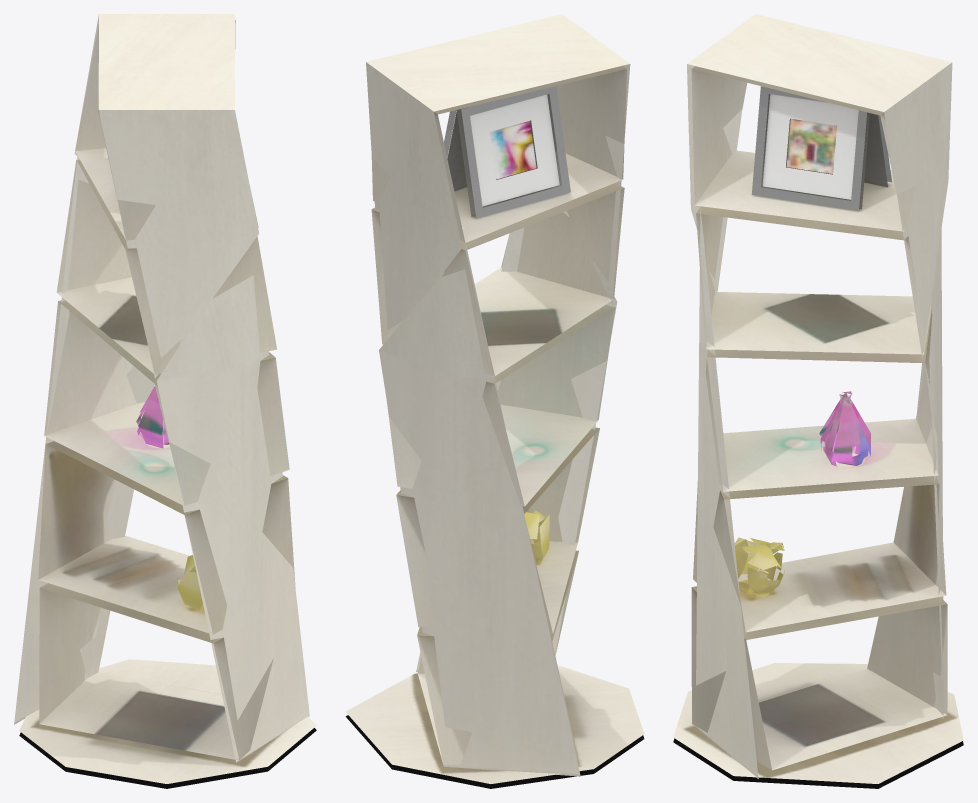
3 renders of one model, left to right at view 1: azimuth 30°, elevation 25°; view 2: azimuth 150°, elevation 25°; view 3: azimuth 270°, elevation 25°, orthographic.
Visible parts, largest first — view 1: Mesh_0.016, Mesh_3.007; view 2: Mesh_0.016, Mesh_3.007; view 3: Mesh_0.016, Mesh_3.007.
Boxes of the visible parts, x1,y1,x2,y2 form: Mesh_0.016: (14,14,309,762); Mesh_3.007: (19,24,316,788); Mesh_0.016: (366,14,630,776); Mesh_3.007: (345,69,644,788); Mesh_0.016: (687,14,952,779); Mesh_3.007: (673,69,963,788).
Size of the model in its own units: 62.95 by 161 by 63.8.
Materials: 1 (1 with a texture image).
